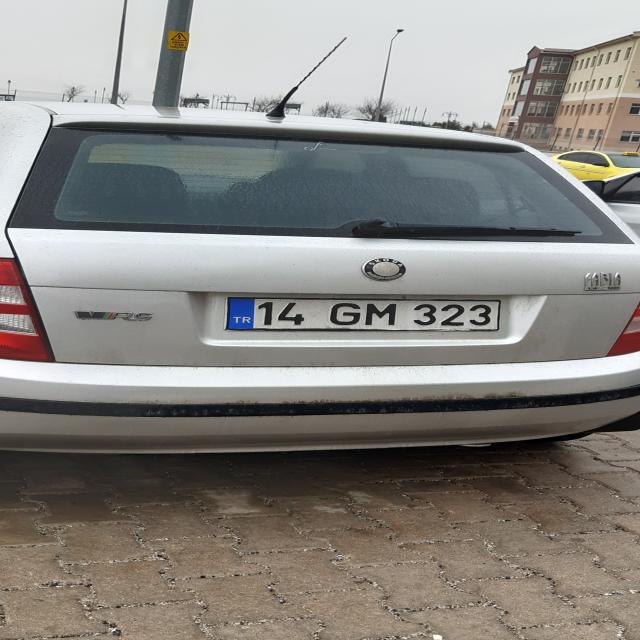plate: (224, 296, 501, 331)
